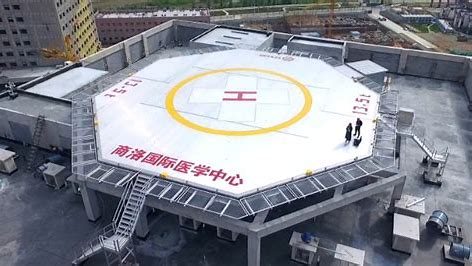H: (224, 91, 258, 102)
